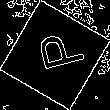P_W: (26, 31, 84, 79)
